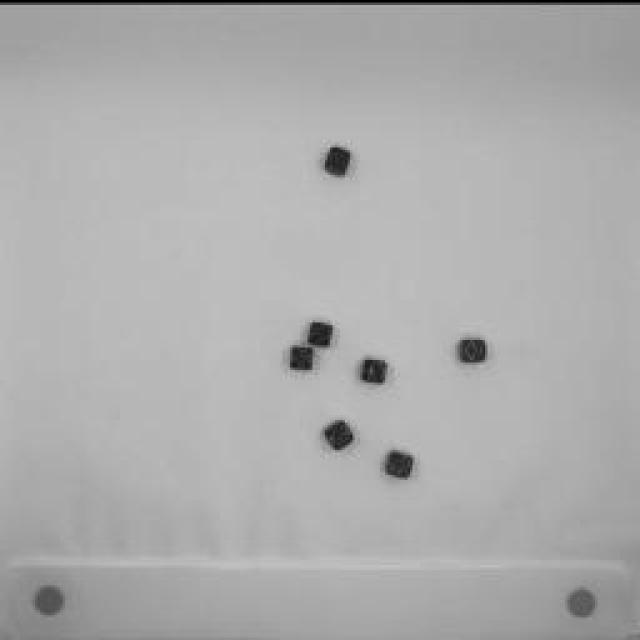dice_1: (358, 348, 390, 384)
dice_2: (319, 410, 359, 450), (304, 312, 338, 348), (285, 340, 320, 372)
dice_4: (455, 328, 493, 364)
dice_6: (322, 140, 356, 180), (381, 444, 419, 478)
